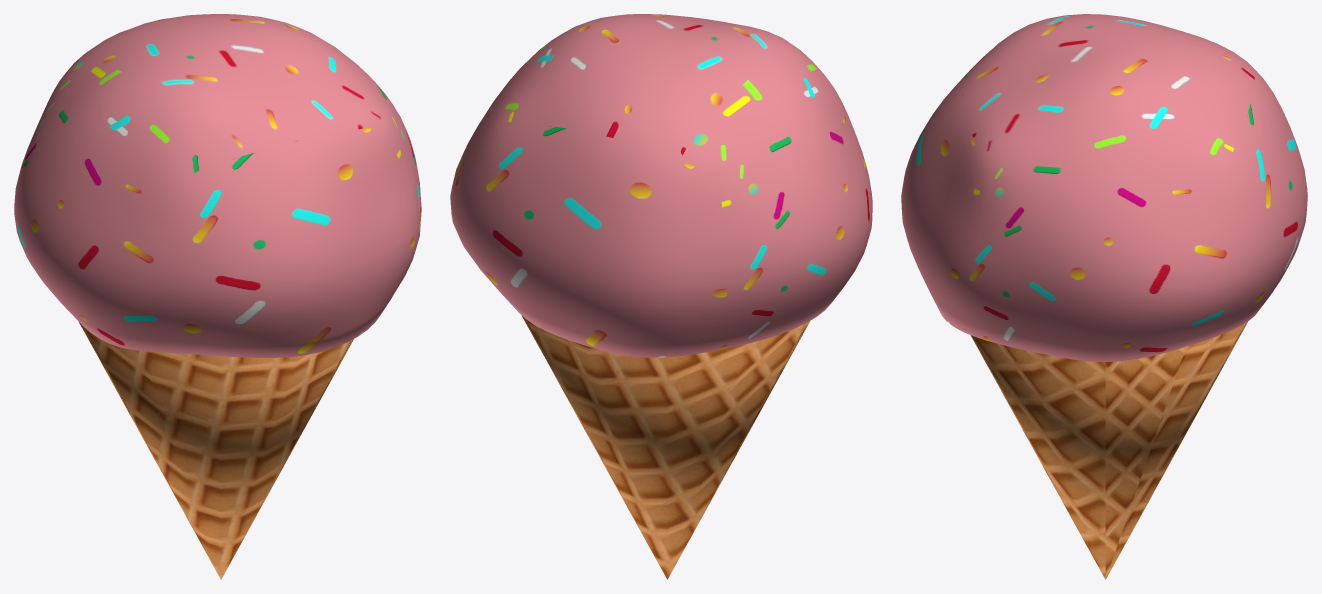
Rendered from iceCream.fbx.
3 views of the same model, side by side, from view 1: azimuth 30°, elevation 25°; view 2: azimuth 150°, elevation 25°; view 3: azimuth 270°, elevation 25° (orthographic).
Visible parts, largest first — view 1: Cube, Cone; view 2: Cube, Cone; view 3: Cube, Cone.
Boxes of the visible parts, box(x1,y1,x2,y2) form: Cube: box(14, 14, 421, 357); Cone: box(78, 321, 353, 579); Cube: box(450, 14, 872, 357); Cone: box(521, 315, 809, 579); Cube: box(901, 14, 1307, 362); Cone: box(970, 321, 1247, 579).
Bounding box in the file's own units: 222 × 318 × 218.
